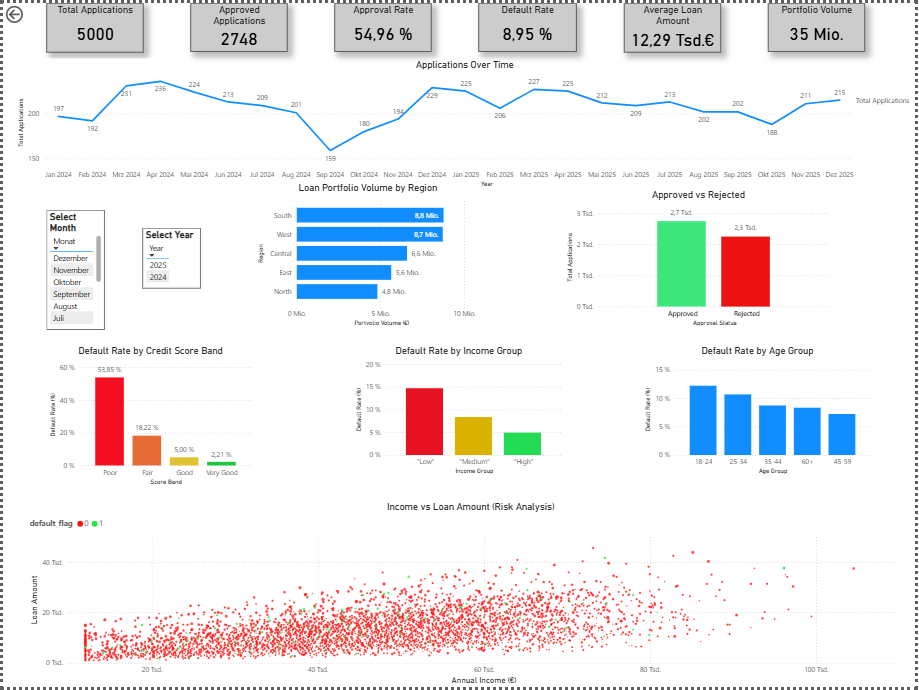

The page's visual inventory and layout, read from the dashboard file:
{"tool":"powerbi","page":{"name":"Executive Overview","canvas":[1600,1200],"ordinal":0},"visuals":[{"type":"card","title":"Total Applications","fields":{"Values":["fact_loans.Total Applications"]},"box":[76.7,0,170,86.7],"z":0},{"type":"lineChart","title":"Applications Over Time","fields":{"Y":["fact_loans.Total Applications"],"Category":["dim_date.month_year"]},"box":[22,98,1578,230],"z":1000},{"type":"clusteredBarChart","title":"Loan Portfolio Volume by Region","fields":{"Category":["fact_loans.region"],"Y":["fact_loans.Portfolio Volume"]},"box":[442,314,396,258],"z":2000},{"type":"lineClusteredColumnComboChart","title":"Approved vs Rejected","fields":{"Category":["fact_loans.approval_status"],"Y":["fact_loans.Total Applications"]},"box":[985,326.7,471.7,245],"z":3000},{"type":"clusteredColumnChart","title":"Default Rate by Credit Score Band","fields":{"Category":["fact_loans.score_band"],"Y":["fact_loans.Default Rate"]},"box":[76.7,600,365,250],"z":4000},{"type":"clusteredColumnChart","title":"Default Rate by Income Group","fields":{"Y":["fact_loans.Default Rate"],"Category":["fact_loans.income_group"]},"box":[613.3,600,373.3,231.7],"z":5000},{"type":"clusteredColumnChart","title":"Default Rate by Age Group","fields":{"Category":["fact_loans.age_group"],"Y":["fact_loans.Default Rate"]},"box":[1140,600,406,232],"z":6000},{"type":"scatterChart","title":"Income vs Loan Amount (Risk Analysis)","fields":{"X":["Sum(fact_loans.annual_income_eur)"],"Y":["Sum(fact_loans.loan_amount_eur)"],"Size":["Sum(fact_loans.debt_to_income_ratio)"],"Series":["fact_loans.default_flag"],"Category":["fact_loans.customer_id"]},"box":[43.3,873.3,1556.7,326.7],"z":7000},{"type":"card","title":"Approved Applications","fields":{"Values":["fact_loans.Approved Applications"]},"box":[329.3,0,170,85],"z":8000},{"type":"card","title":"Approval Rate","fields":{"Values":["fact_loans.Approval Rate"]},"box":[582,0,170,85],"z":9000},{"type":"card","title":"Default Rate","fields":{"Values":["fact_loans.Default Rate"]},"box":[834.7,0,171.7,85],"z":10000},{"type":"card","title":"Average Loan Amount","fields":{"Values":["fact_loans.Average Loan Amount"]},"box":[1089,0,170,86.7],"z":11000},{"type":"card","title":"Portfolio Volume","fields":{"Values":["fact_loans.Portfolio Volume"]},"box":[1341.7,0,170,85],"z":12000},{"type":"actionButton","box":[0,0,100,40],"z":13000},{"type":"tableEx","title":"Select Month","fields":{"Values":["dim_date.Date.Variation.Datumshierarchie.Monat"]},"box":[76,362,102,210],"z":14000},{"type":"tableEx","title":"Select Year","fields":{"Values":["dim_date.Year"]},"box":[246,396,102,106],"z":15000}]}

Visuals, with their boxes in screenshot pixels (x1, y1, x2, y2), scaled from the page's 1600x1200 canvas onto the 919x690 screenshot:
"Total Applications" card: [x1=44, y1=0, x2=142, y2=50]
"Applications Over Time" lineChart: [x1=13, y1=56, x2=918, y2=189]
"Loan Portfolio Volume by Region" clusteredBarChart: [x1=254, y1=181, x2=481, y2=329]
"Approved vs Rejected" lineClusteredColumnComboChart: [x1=566, y1=188, x2=837, y2=329]
"Default Rate by Credit Score Band" clusteredColumnChart: [x1=44, y1=345, x2=254, y2=489]
"Default Rate by Income Group" clusteredColumnChart: [x1=352, y1=345, x2=567, y2=478]
"Default Rate by Age Group" clusteredColumnChart: [x1=655, y1=345, x2=888, y2=478]
"Income vs Loan Amount (Risk Analysis)" scatterChart: [x1=25, y1=502, x2=918, y2=689]
"Approved Applications" card: [x1=189, y1=0, x2=287, y2=49]
"Approval Rate" card: [x1=334, y1=0, x2=432, y2=49]
"Default Rate" card: [x1=479, y1=0, x2=578, y2=49]
"Average Loan Amount" card: [x1=625, y1=0, x2=723, y2=50]
"Portfolio Volume" card: [x1=771, y1=0, x2=868, y2=49]
actionButton: [x1=0, y1=0, x2=57, y2=23]
"Select Month" tableEx: [x1=44, y1=208, x2=102, y2=329]
"Select Year" tableEx: [x1=141, y1=228, x2=200, y2=289]
